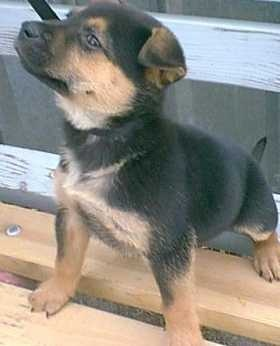dog: (0, 0, 280, 309)
